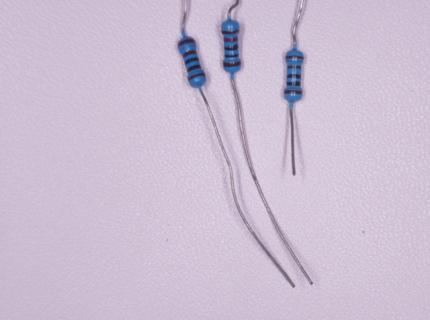Black band: (187, 64, 202, 73), (185, 58, 199, 65), (287, 74, 301, 79), (287, 81, 301, 86)
Brown band: (178, 38, 196, 47), (188, 73, 206, 81), (182, 50, 196, 58), (284, 90, 302, 94), (287, 65, 301, 70), (286, 55, 303, 59)
